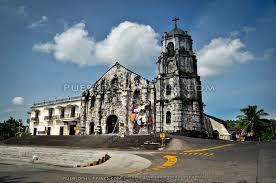daraga_church_daraga_albay: (80, 16, 205, 137)
